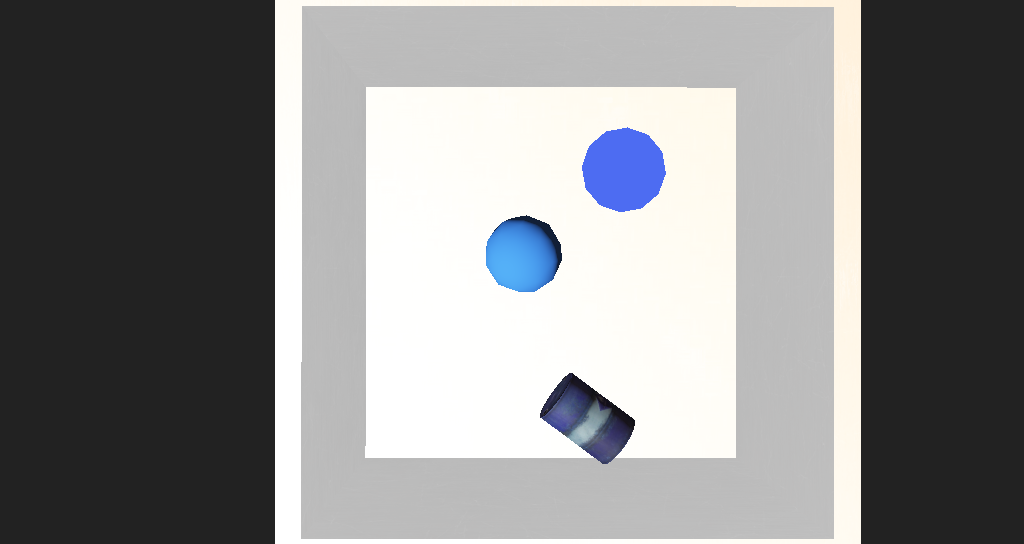cone: (492, 324, 573, 382)
cylinder: (525, 188, 593, 241)
sphere: (455, 234, 515, 282)
